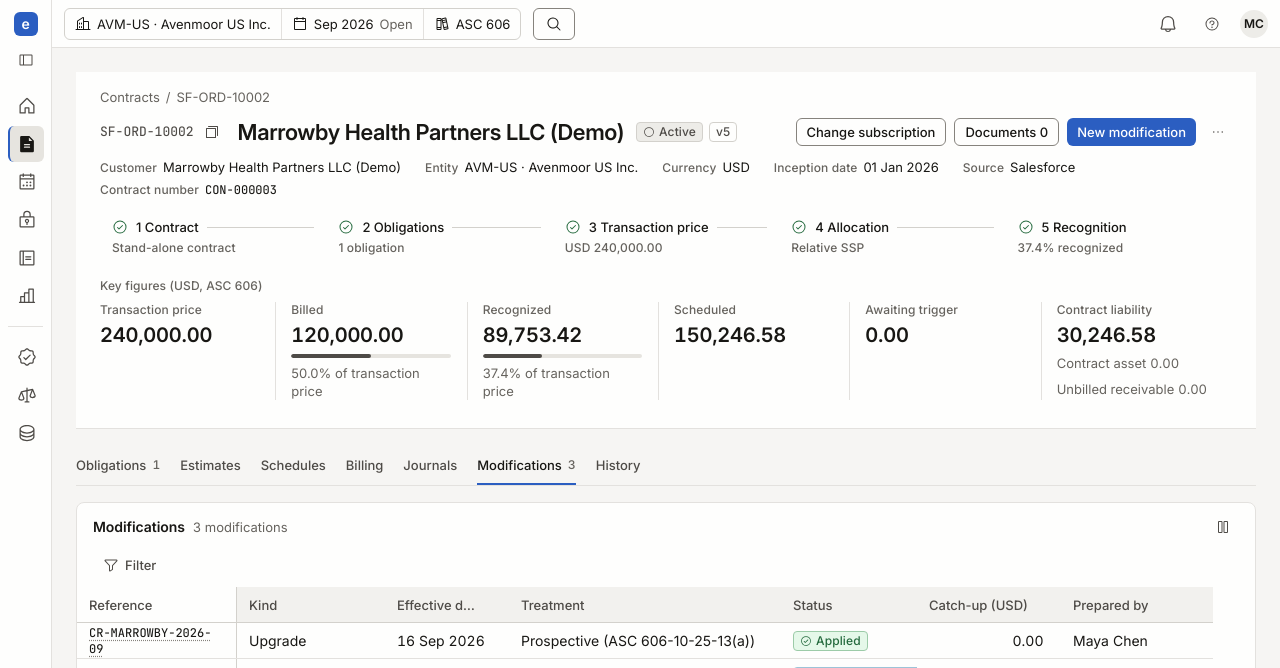
SF-03:modifications › New modification and Change subscription are the header's commands for a preparer on an active contract
Expected: the row with test id "SF-03-row-cr-marrowby-2026-09" is shown, [77, 623, 1213, 659]
Expected: the number of buttons "New modification" is 1, [1067, 118, 1196, 146]
Step 1. Click the button "Change subscription" → (871, 132), box [796, 118, 946, 146]
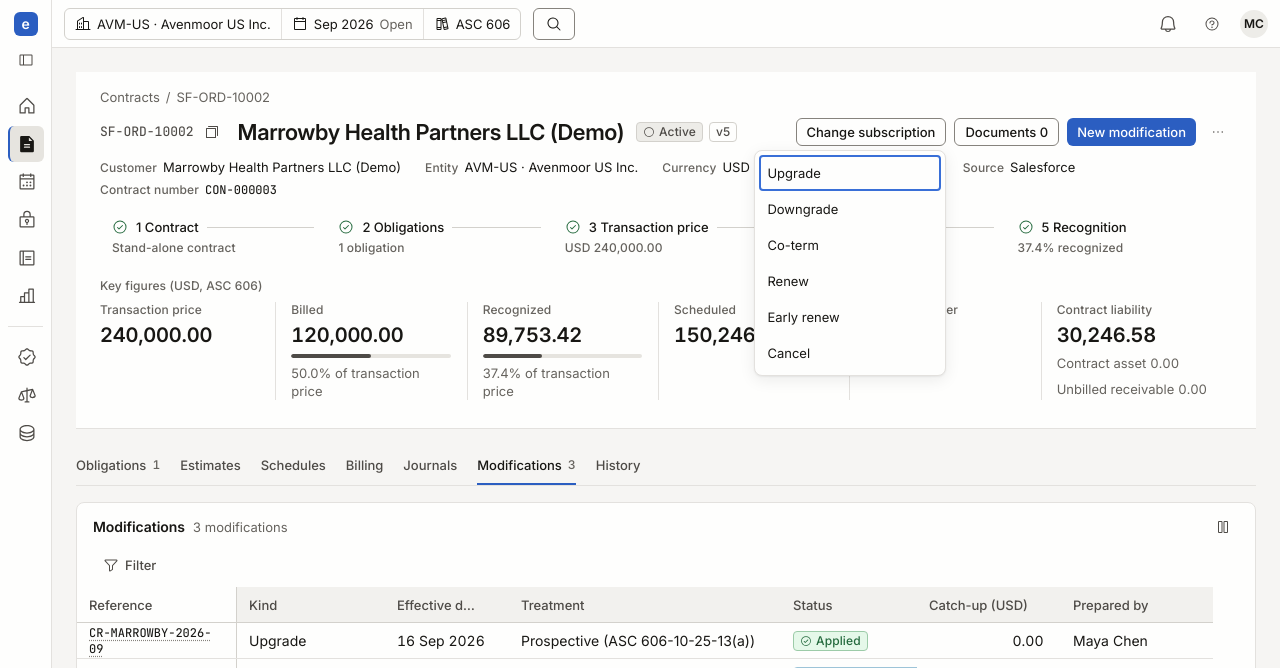
Result: the menu items read "Upgrade", "Downgrade", "Co-term", "Renew", "Early renew", "Cancel", in this order at [759, 155, 941, 191]; [759, 191, 941, 227]; [759, 227, 941, 263]; [759, 263, 941, 299]; [759, 299, 941, 335]; [759, 335, 941, 371]
